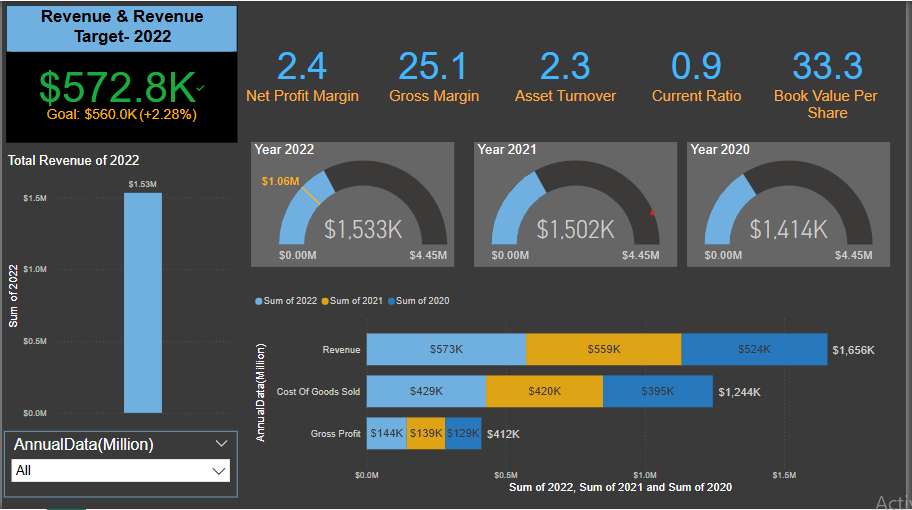

What the dashboard file says about the page in this screenshot:
{"tool":"powerbi","page":{"name":"Page 1","canvas":[1280,720],"ordinal":0},"visuals":[{"type":"card","fields":{"Values":["Sum(FinancialRatio.2022)"]},"box":[1059.9,0,220.1,199.9],"z":0},{"type":"card","fields":{"Values":["Sum(FinancialRatio.2022)"]},"box":[874.5,0,219.7,199.8],"z":1000},{"type":"card","fields":{"Values":["Sum(FinancialRatio.2022)"]},"box":[688.8,0,219.7,199.8],"z":2000},{"type":"card","fields":{"Values":["Sum(FinancialRatio.2022)"]},"box":[501.7,0,221.1,199.8],"z":3000},{"type":"card","fields":{"Values":["Sum(FinancialRatio.2022)"]},"box":[316.1,0,219.7,199.8],"z":4000},{"type":"kpi","title":"Revenue & Revenue Target- 2022","fields":{"Indicator":["Sum(Income.2022)"],"TrendLine":["Income.AnnualData(Million)"],"Goal":["Sum(Income.Target2022)"]},"box":[5,5,327.6,194.9],"z":5000},{"type":"slicer","fields":{"Values":["Income.AnnualData(Million)"]},"box":[3.4,609.8,330.9,94.1],"z":6000},{"type":"columnChart","title":"Total Revenue of 2022","fields":{"Y":["Sum(Income.2022)"]},"box":[3.4,215,330.9,381.3],"z":7000},{"type":"gauge","title":"Year 2022","fields":{"Y":["Sum(Income.2022)"],"MaxValue":["BalanceSheet.Last 3 year Data"],"TargetValue":["Max(Income.Target2022)"]},"box":[352.9,199.8,287.7,177.2],"z":8000},{"type":"gauge","title":"Year 2021","fields":{"MaxValue":["BalanceSheet.Last 3 year Data"],"Y":["Sum(Income.2021)"]},"box":[669,199.8,287.7,177.2],"z":9000},{"type":"gauge","title":"Year 2020","fields":{"Y":["Sum(Income.2020)"],"MaxValue":["BalanceSheet.Last 3 year Data"]},"box":[970.9,199.8,287.7,177.2],"z":10000},{"type":"barChart","fields":{"Y":["Sum(Income.2022)","Sum(Income.2021)","Sum(Income.2020)"],"Category":["Income.AnnualData(Million)"]},"box":[352.9,405.4,905.7,297.6],"z":11000}]}

Visuals, with their boxes in screenshot pixels (x1, y1, x2, y2), scaled from the page's 1280x720 canvas onto the 912x510 screenshot:
card - Sum(FinancialRatio.2022): 755 0 911 142
card - Sum(FinancialRatio.2022): 623 0 780 142
card - Sum(FinancialRatio.2022): 491 0 647 142
card - Sum(FinancialRatio.2022): 357 0 515 142
card - Sum(FinancialRatio.2022): 225 0 382 142
"Revenue & Revenue Target- 2022" kpi: 4 4 237 142
slicer - Income.AnnualData(Million): 2 432 238 499
"Total Revenue of 2022" columnChart: 2 152 238 422
"Year 2022" gauge: 251 142 456 267
"Year 2021" gauge: 477 142 682 267
"Year 2020" gauge: 692 142 897 267
barChart - Sum(Income.2022) x Sum(Income.2021): 251 287 897 498
